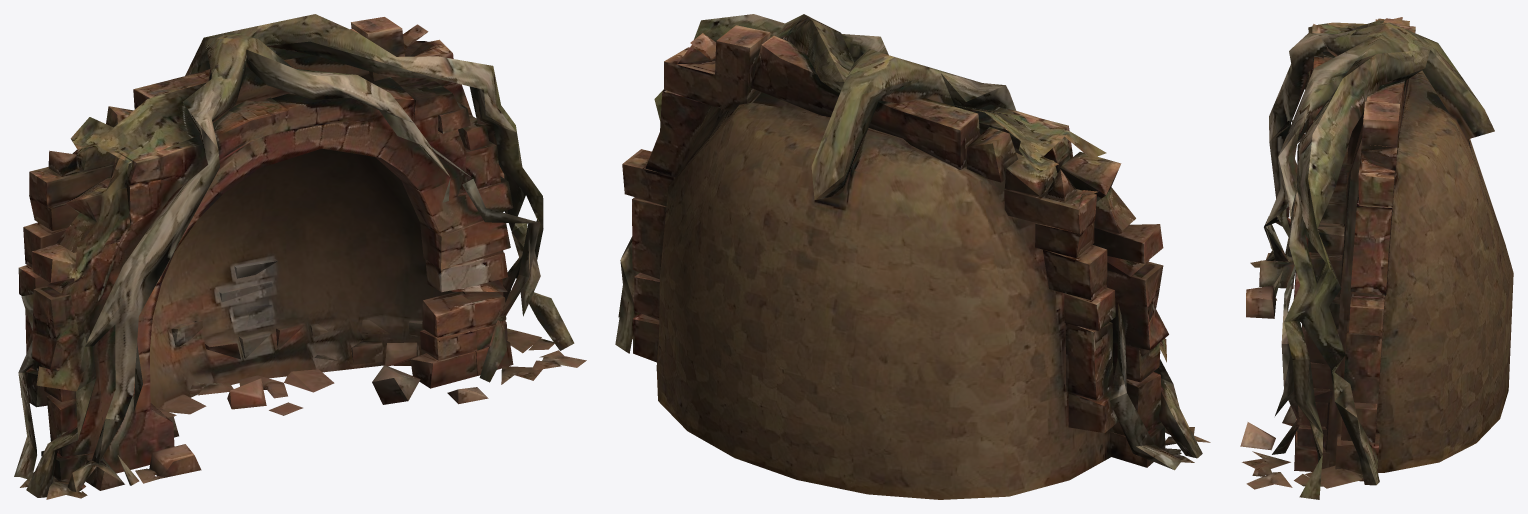
Rendered from act1_kit_v1_root_wall_bay.glb.
3 views of the same model, side by side, from view 1: azimuth 30°, elevation 25°; view 2: azimuth 150°, elevation 25°; view 3: azimuth 270°, elevation 25° (orthographic). The views are drawn at different scales.
Visible parts, largest first — view 1: A13_5_root_wall_bay; view 2: A13_5_root_wall_bay; view 3: A13_5_root_wall_bay.
Part boxes in pixels (x1=…): A13_5_root_wall_bay: x1=14, y1=14, x2=586, y2=499; A13_5_root_wall_bay: x1=615, y1=14, x2=1210, y2=499; A13_5_root_wall_bay: x1=1240, y1=17, x2=1513, y2=499.
Bounding box in the file's own units: 0.9925 × 0.6505 × 0.4435.
Materials: 1 (1 with a texture image).
